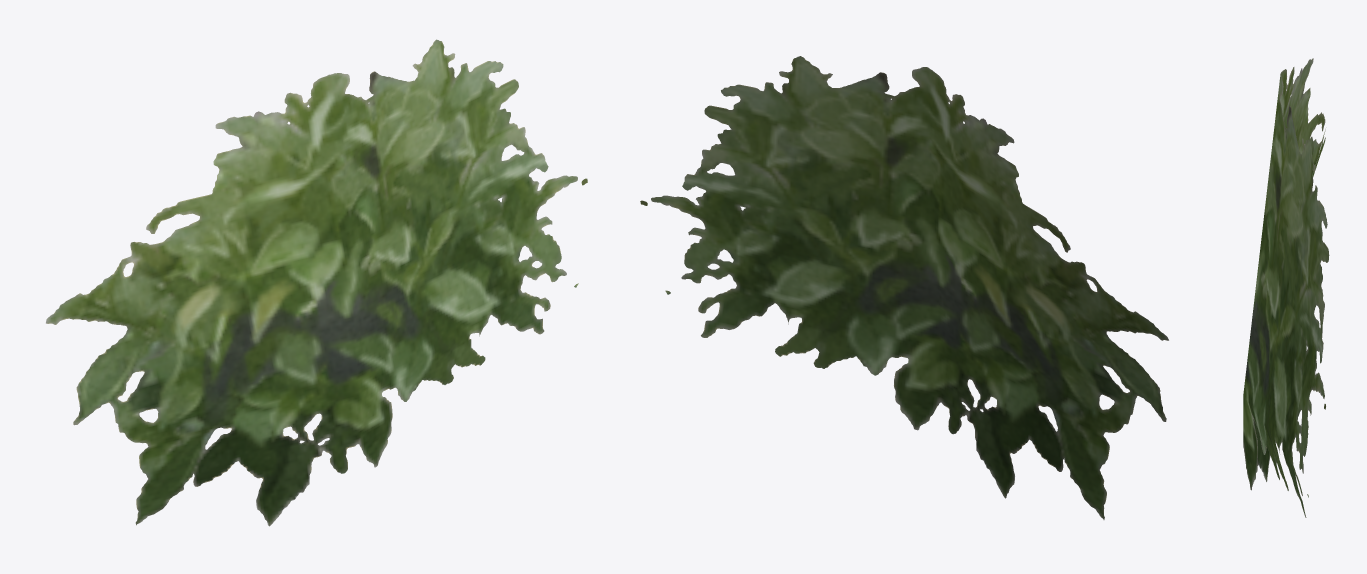
The model's file is Jiubajie_hua03_fbx.FBX.
The picture shows the model from 3 angles, left to right: view 1: azimuth 30°, elevation 25°; view 2: azimuth 150°, elevation 25°; view 3: azimuth 270°, elevation 25°; orthographic projection. The views are drawn at different scales.
Visible parts, largest first — view 1: Jiubajie_hua03_fbx; view 2: Jiubajie_hua03_fbx; view 3: Jiubajie_hua03_fbx.
Part boxes in pixels (<box>): Jiubajie_hua03_fbx: <box>46,39,587,526</box>; Jiubajie_hua03_fbx: <box>640,56,1168,519</box>; Jiubajie_hua03_fbx: <box>1243,58,1329,517</box>.
Bounding box in the file's own units: 0.463 × 0.3748 × 0.0712.
Materials: 1 (1 with a texture image).
